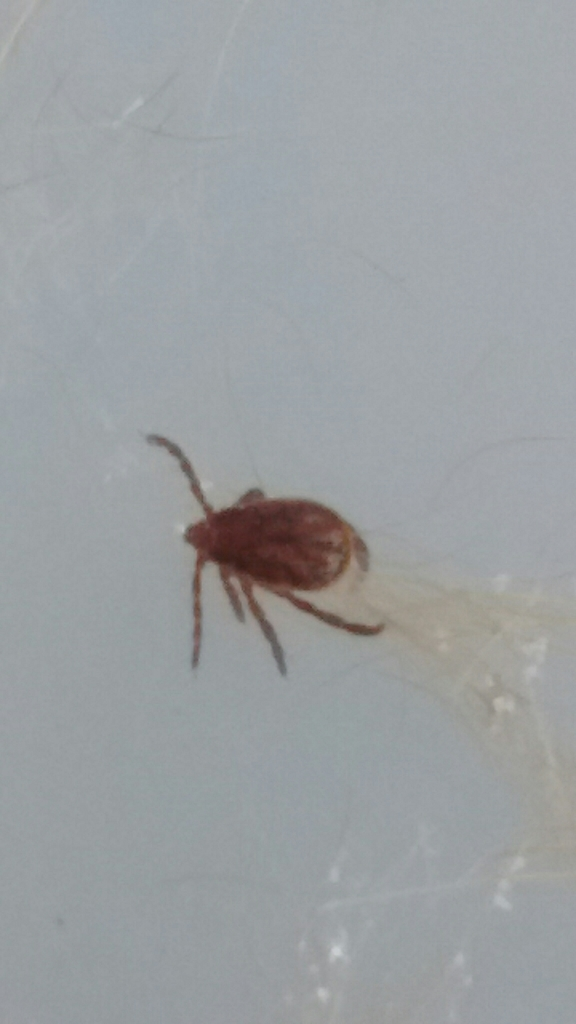garrapata: (118, 423, 414, 687)
